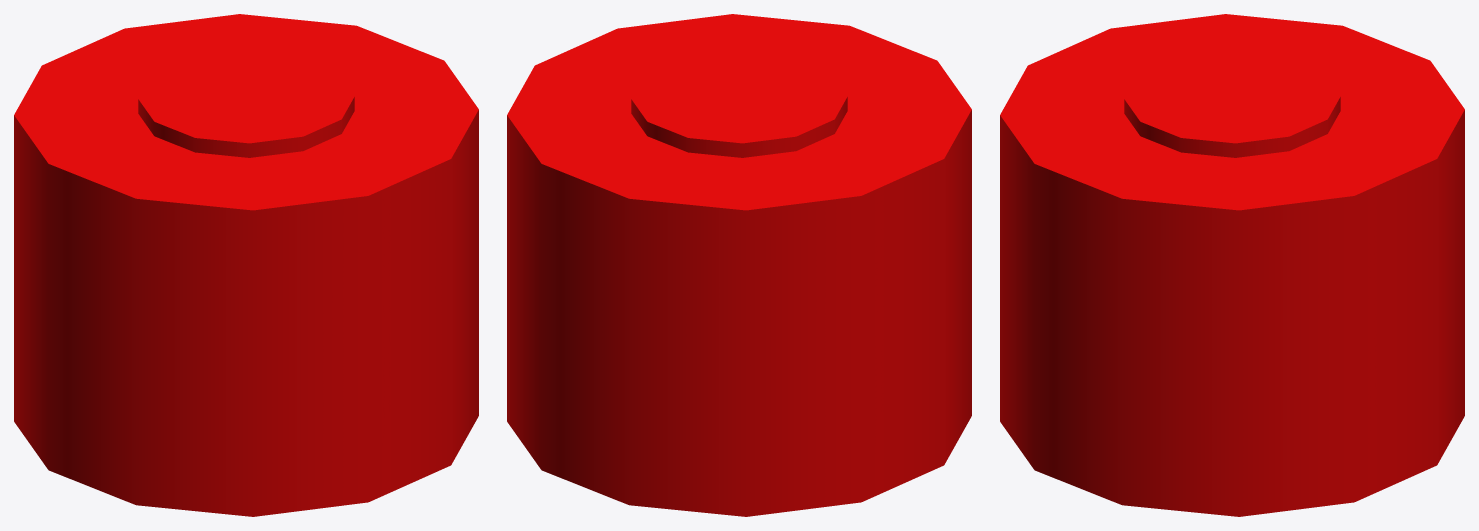
Rendered from c04fcaf4-b6f6-4f52-b9cc-34ecb1b53599.glb.
3 views of the same model, side by side, from view 1: azimuth 30°, elevation 25°; view 2: azimuth 150°, elevation 25°; view 3: azimuth 270°, elevation 25° (orthographic).
Visible parts, largest first — view 1: 87, 87_1; view 2: 87, 87_1; view 3: 87, 87_1.
Boxes of the visible parts, x1,y1,x2,y2 form: 87: (14,97,478,516); 87_1: (14,14,478,210); 87: (507,97,971,516); 87_1: (507,14,971,210); 87: (1000,97,1464,516); 87_1: (1000,14,1464,210).
Size of the model in its own units: 1.47 by 1.12 by 1.47.
